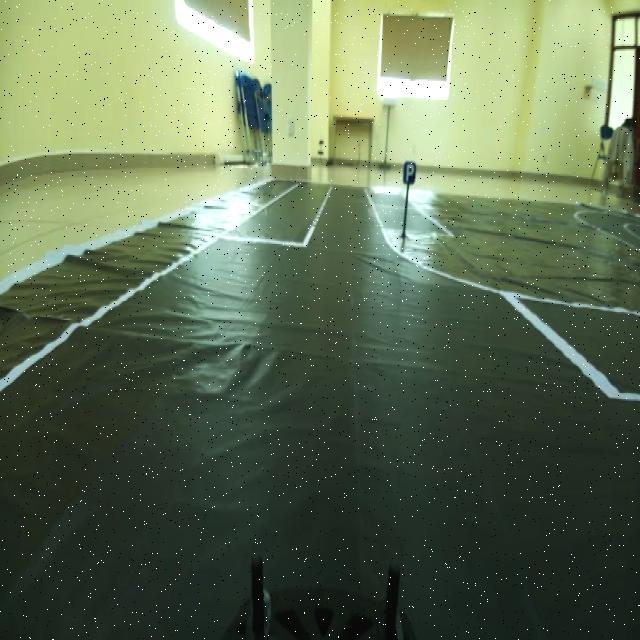parking: (396, 144, 418, 192)
